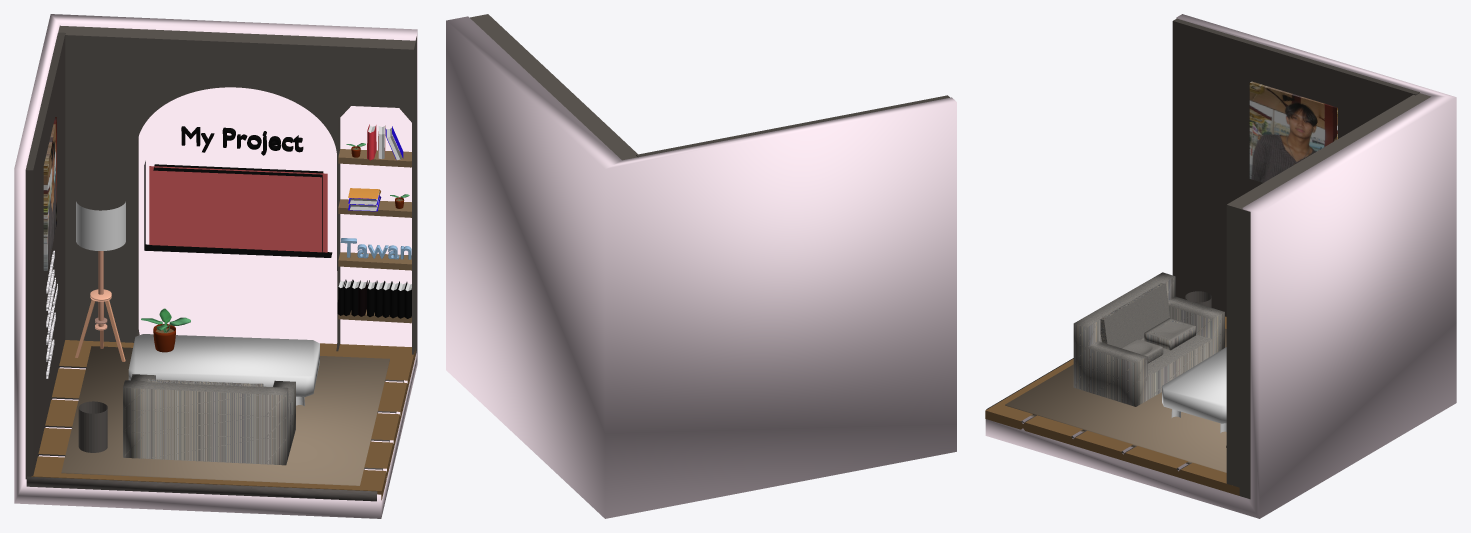
File: room2.glb
The picture shows the model from 3 angles, left to right: view 1: azimuth 30°, elevation 25°; view 2: azimuth 150°, elevation 25°; view 3: azimuth 270°, elevation 25°; orthographic projection. The views are drawn at different scales.
Visible parts, largest first — view 1: Cube, ื, Plane, Plane.018, Plane.001, Cube.002, Cube.004, Plane.006, Cube.003, Plane.007, Cylinder.004, Plane.016 (+8 smaller); view 2: Cube, ื, Cube.002; view 3: Cube, Cube.002, ื, Plane.001, Plane, Plane.016, Cube.004, Plane.006, Plane.005, Plane.003.
Part boxes in pixels (left/top/right/bottom): Cube: left=14, top=14, right=417, bottom=518; ื: left=58, top=25, right=416, bottom=355; Plane: left=61, top=346, right=389, bottom=485; Plane.018: left=149, top=166, right=327, bottom=252; Plane.001: left=123, top=374, right=295, bottom=465; Cube.002: left=25, top=32, right=65, bottom=479; Cube.004: left=31, top=340, right=415, bottom=500; Plane.006: left=128, top=334, right=319, bottom=396; Cube.003: left=26, top=366, right=403, bottom=501; Plane.007: left=144, top=161, right=332, bottom=257; Cylinder.004: left=76, top=201, right=125, bottom=250; Plane.016: left=43, top=117, right=56, bottom=270; Cube: left=446, top=16, right=956, bottom=518; ื: left=470, top=14, right=637, bottom=160; Cube.002: left=636, top=95, right=949, bottom=157; Cube: left=985, top=14, right=1456, bottom=518; Cube.002: left=1172, top=18, right=1419, bottom=316; ื: left=1226, top=93, right=1431, bottom=499; Plane.001: left=1073, top=272, right=1224, bottom=406; Plane: left=1005, top=328, right=1226, bottom=472; Plane.016: left=1249, top=81, right=1337, bottom=182; Cube.004: left=985, top=316, right=1239, bottom=495; Plane.006: left=1162, top=347, right=1226, bottom=423; Plane.005: left=1100, top=283, right=1169, bottom=347; Plane.003: left=1144, top=318, right=1195, bottom=350.
Bounding box in the file's own units: 6.99 × 5.01 × 6.99.
Materials: 51 (7 with a texture image).
